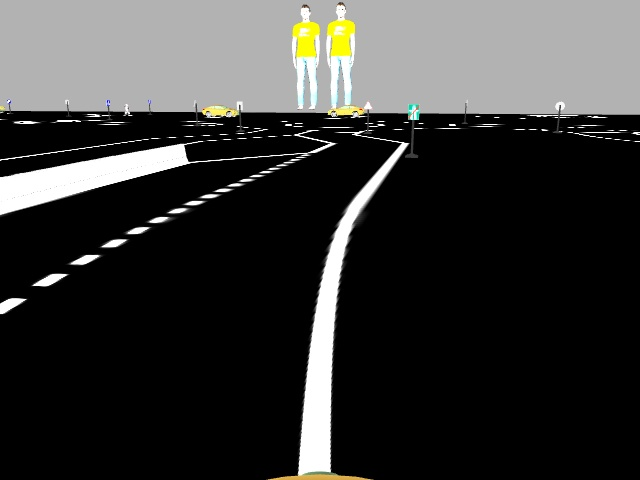HighwayExit: (405, 102, 420, 120)
